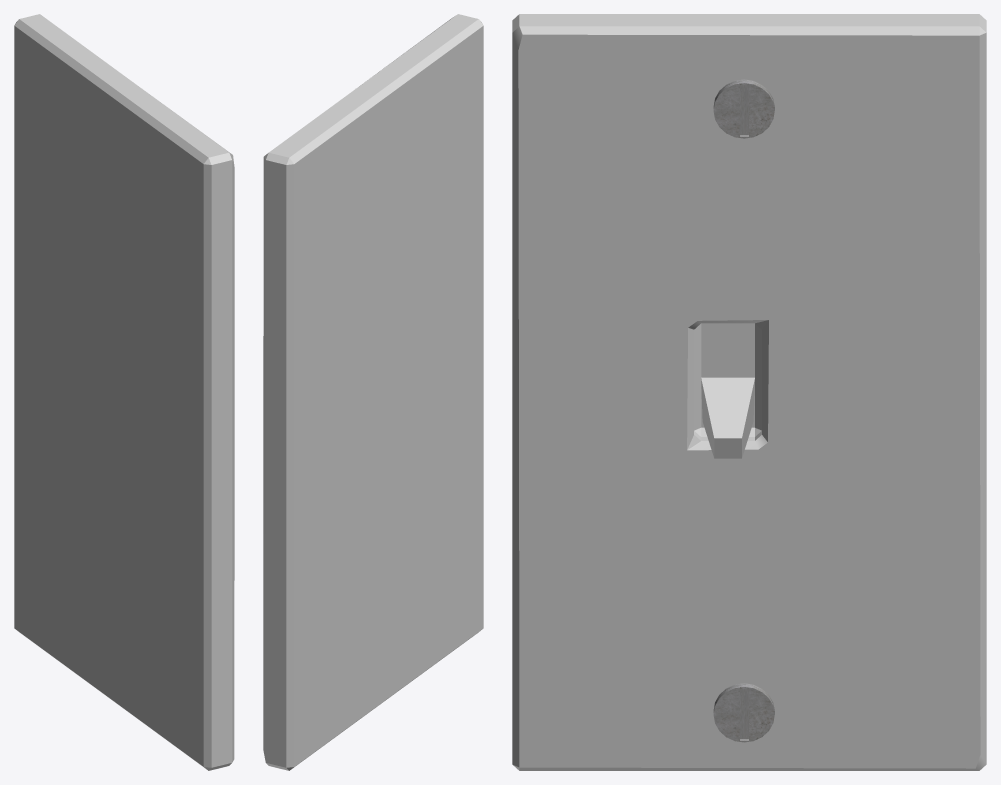
The model's file is Lichtschalter1.fbx.
3 renders of one model, left to right at view 1: azimuth 30°, elevation 25°; view 2: azimuth 150°, elevation 25°; view 3: azimuth 270°, elevation 25°, orthographic. The views are drawn at different scales.
Parts seen in each view (by area): view 1: pCube9; view 2: pCube9; view 3: pCube9, pCube5, pCylinder5, pCylinder7.
Part boxes in pixels (x1,y1,x2,y2): pCube9: (14, 14, 234, 770); pCube9: (263, 14, 483, 770); pCube9: (512, 14, 986, 770); pCube5: (701, 377, 754, 458); pCylinder5: (713, 683, 774, 742); pCylinder7: (713, 79, 774, 138).
Bounding box in the file's own units: 0.2468 × 2 × 1.16.
Materials: 2 (1 with a texture image).
